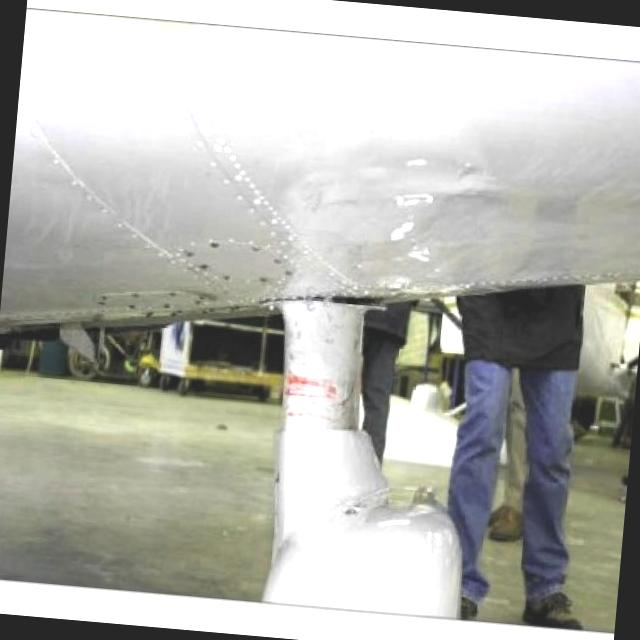dent: (393, 180, 440, 212)
